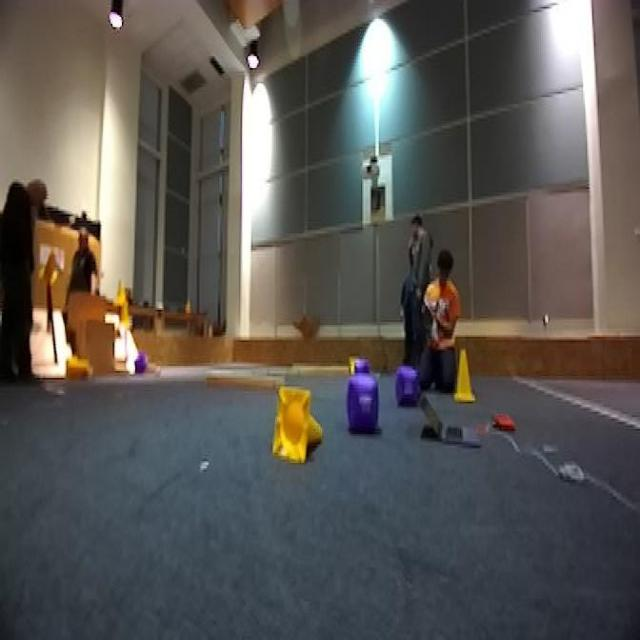frc_cone: (272, 388, 323, 472), (452, 347, 478, 402), (62, 352, 84, 382), (118, 301, 132, 332), (112, 278, 127, 306)
frc_cube: (346, 373, 380, 432), (393, 364, 421, 404), (130, 354, 150, 376), (352, 356, 370, 376)
